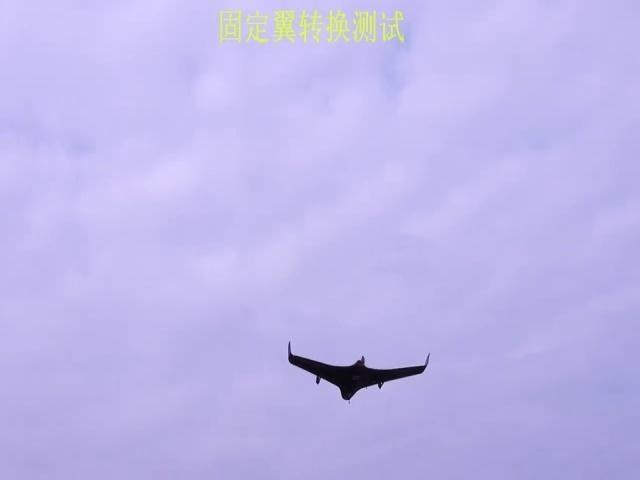Airplane: (287, 340, 430, 404)
